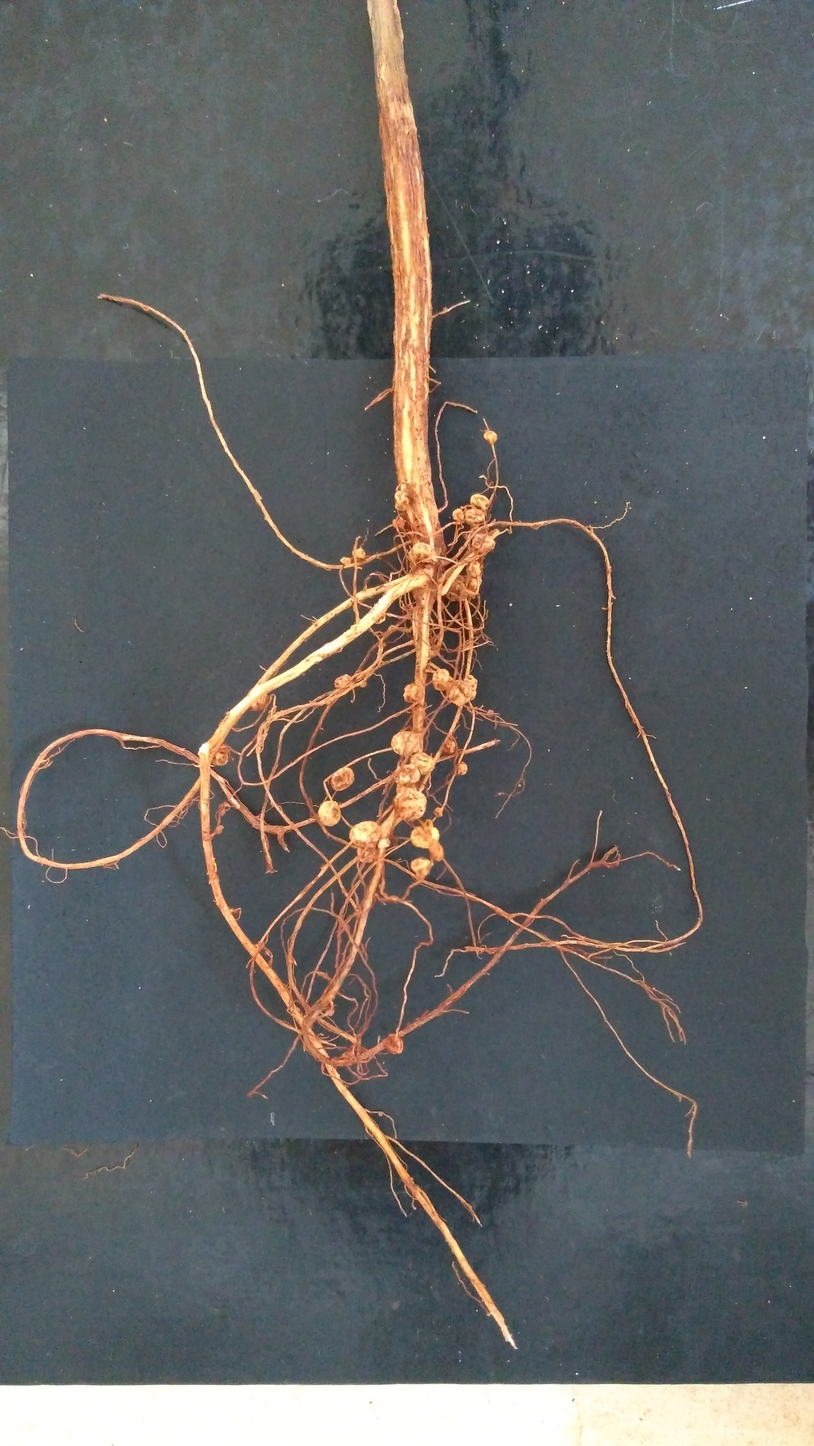nodule: (349, 820, 382, 864), (393, 787, 428, 823), (444, 573, 483, 600), (390, 730, 424, 755), (413, 568, 435, 604), (393, 764, 421, 792), (410, 825, 440, 849), (447, 678, 472, 706), (331, 766, 356, 792), (410, 751, 435, 776), (406, 541, 433, 564), (318, 800, 341, 826), (458, 521, 489, 539), (410, 856, 432, 881), (471, 532, 496, 553), (211, 742, 231, 765), (403, 682, 424, 703), (431, 668, 450, 691), (250, 692, 271, 712), (464, 507, 487, 525), (463, 673, 478, 700), (384, 1034, 403, 1055), (393, 490, 411, 512), (466, 556, 484, 577), (469, 493, 491, 510), (428, 838, 444, 861), (334, 674, 352, 688), (354, 669, 367, 687), (391, 516, 408, 529), (455, 760, 468, 776), (441, 740, 455, 754), (483, 431, 498, 444), (452, 507, 465, 521), (400, 477, 410, 494), (377, 837, 391, 849), (352, 547, 366, 559), (373, 612, 386, 624), (433, 807, 444, 818), (340, 556, 352, 566), (487, 709, 495, 717)
